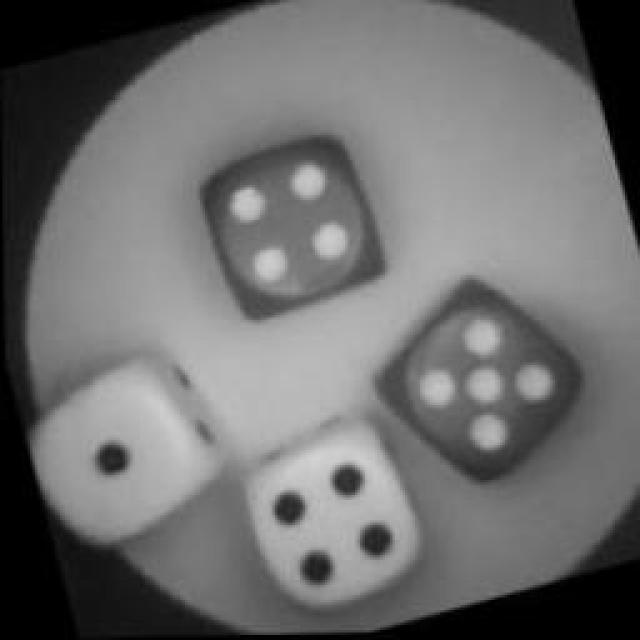dice_1: (11, 339, 241, 556)
dice_4: (184, 116, 406, 339), (225, 406, 435, 624)
dice_5: (341, 246, 614, 519)
